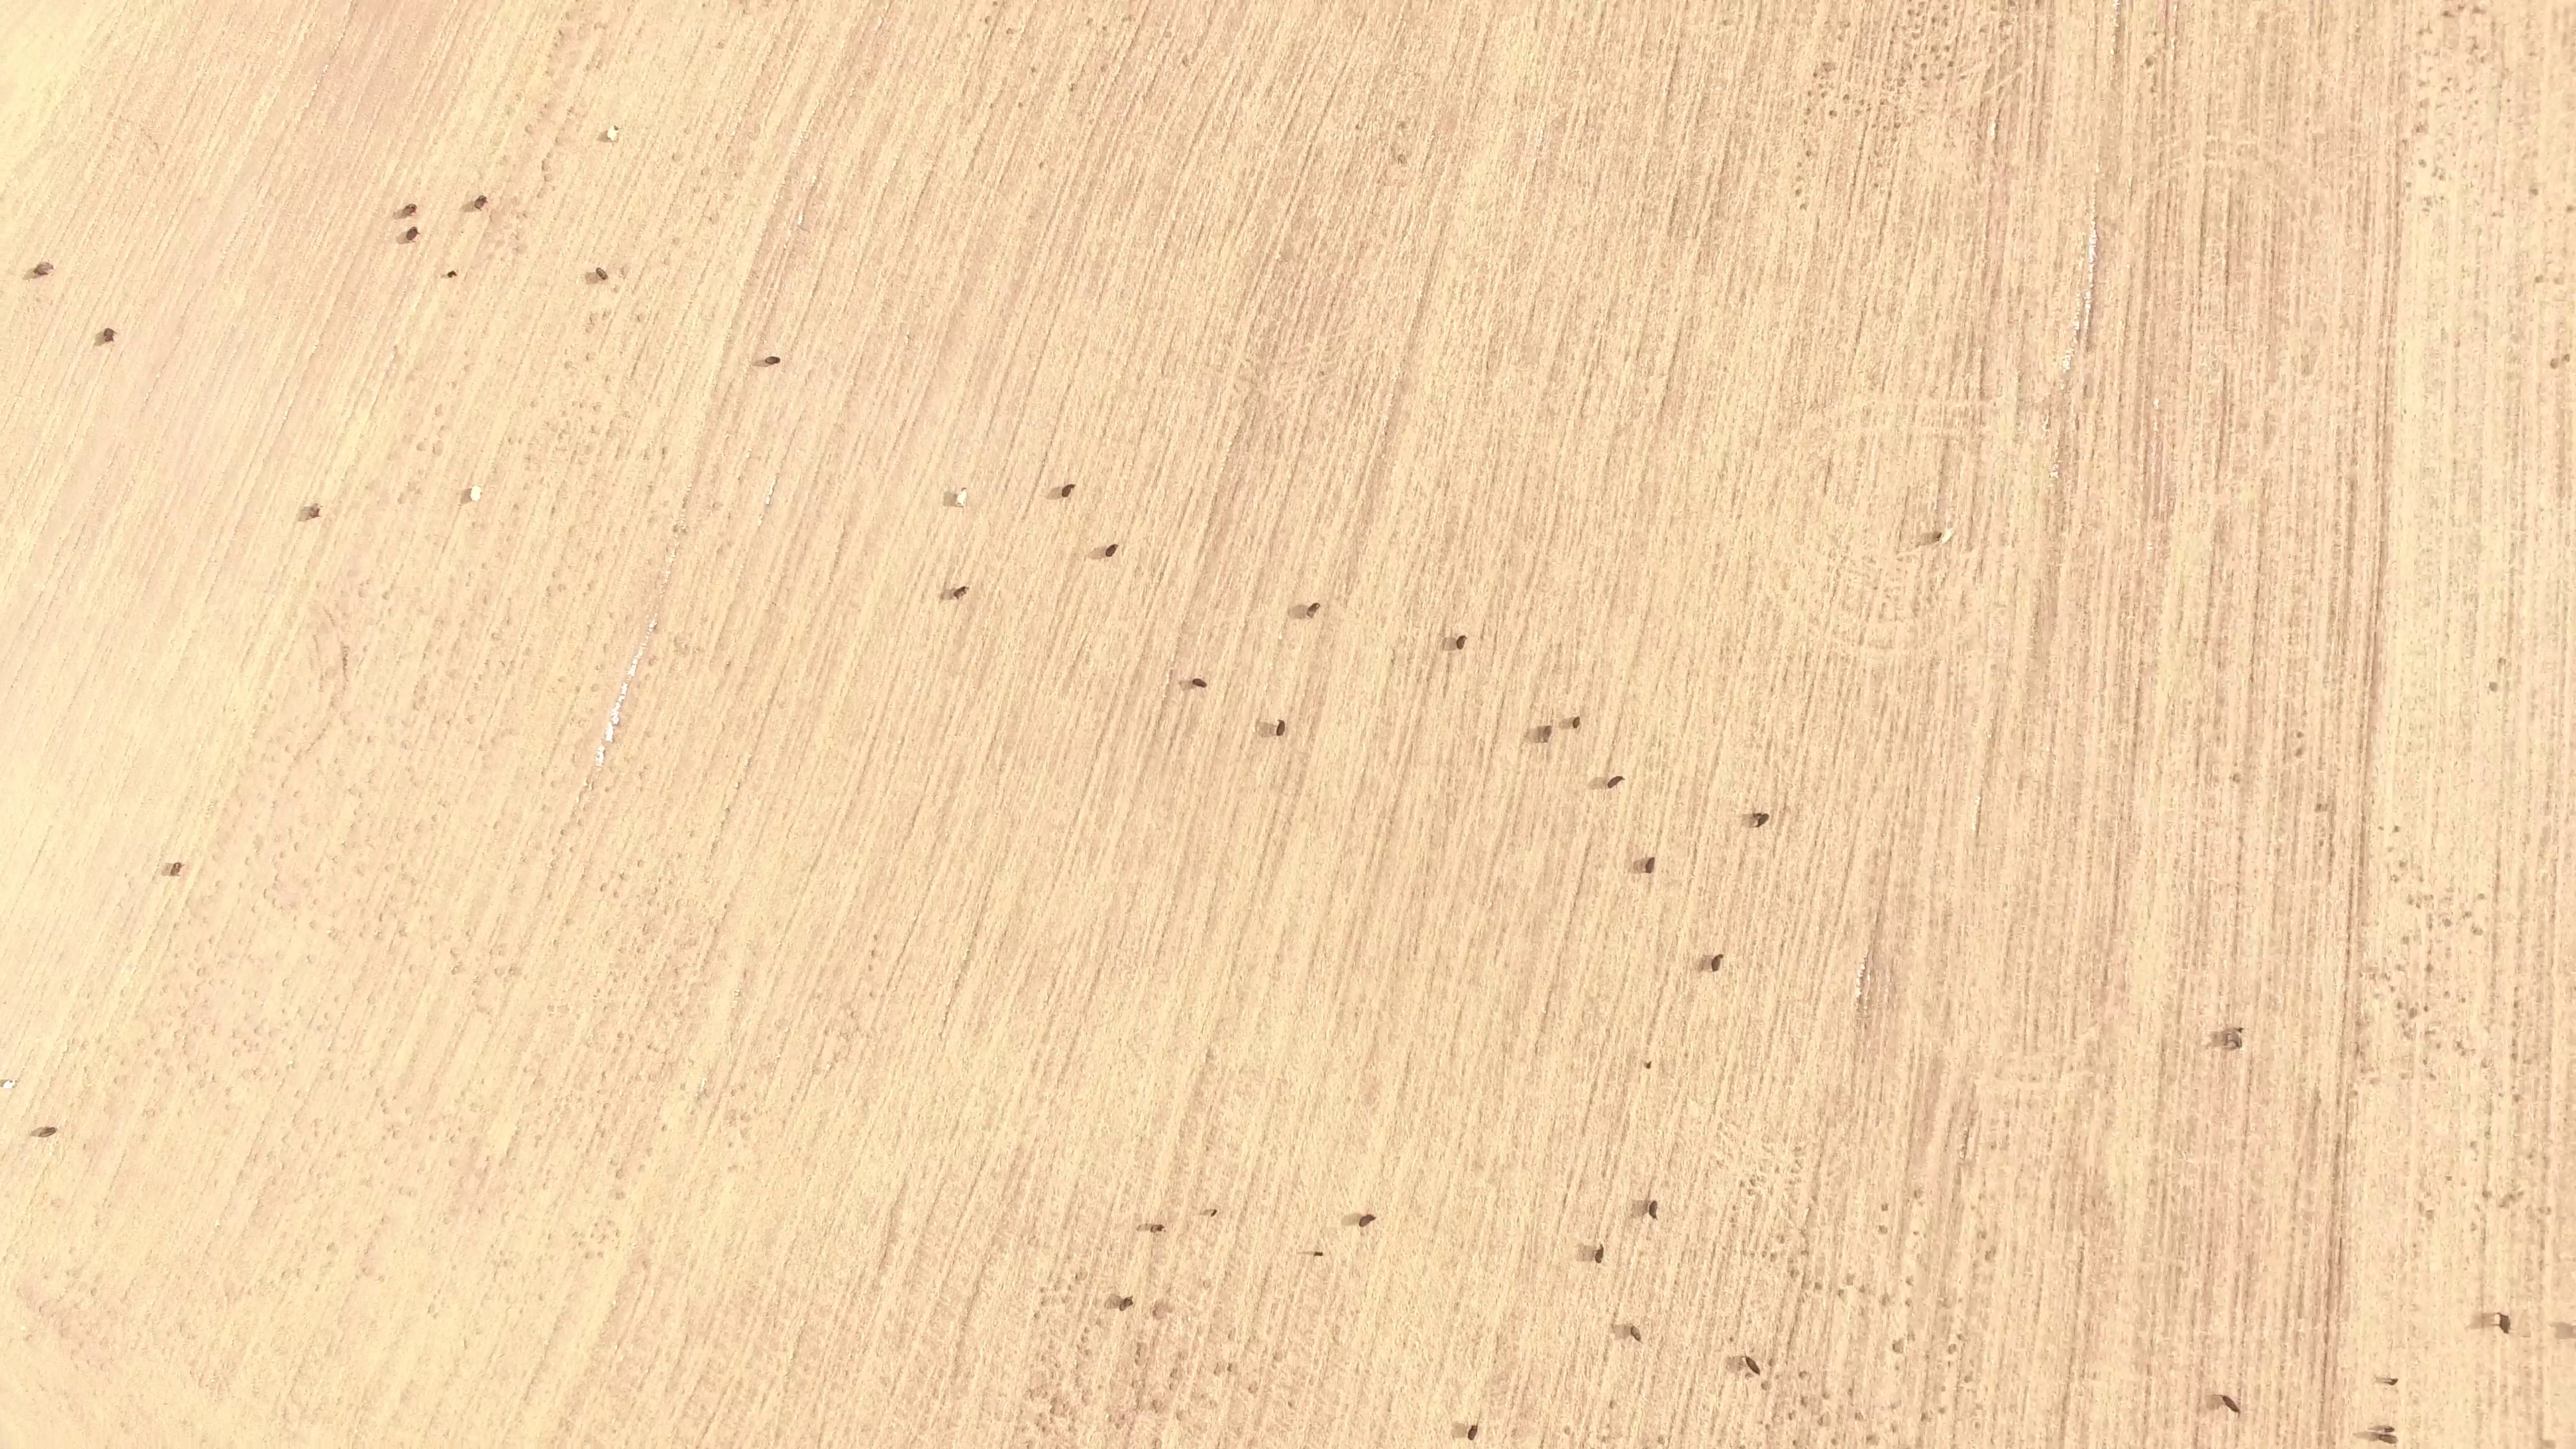sheep: (1933, 523, 1959, 549), (2218, 1391, 2243, 1415), (29, 259, 56, 279), (394, 201, 420, 222), (1099, 539, 1125, 561), (2228, 1024, 2247, 1053), (1644, 1195, 1661, 1224), (1741, 1353, 1764, 1377), (1269, 716, 1291, 739), (1354, 1210, 1379, 1231), (1706, 951, 1727, 975), (1748, 810, 1772, 831), (2495, 1311, 2514, 1337), (470, 193, 490, 216), (1626, 1322, 1646, 1346), (36, 1123, 60, 1143), (303, 500, 323, 525), (953, 486, 971, 513), (1057, 481, 1078, 502), (591, 264, 612, 284), (1114, 1293, 1137, 1313), (1639, 854, 1658, 878), (1603, 773, 1626, 792), (1302, 600, 1322, 623), (402, 223, 421, 246), (1537, 722, 1555, 747), (1187, 676, 1212, 693), (760, 353, 786, 370), (951, 584, 972, 603), (602, 123, 621, 145), (1463, 1420, 1481, 1444), (1145, 1221, 1169, 1236), (166, 859, 185, 880), (1, 1076, 21, 1093), (1452, 632, 1470, 653), (99, 325, 117, 347), (467, 484, 484, 505), (2375, 1432, 2400, 1446), (1590, 1244, 1607, 1265), (1567, 714, 1583, 733), (2385, 1375, 2401, 1389), (2379, 1424, 2400, 1434), (1641, 1059, 1654, 1072), (1310, 1248, 1326, 1259), (1208, 1206, 1220, 1219)
unknown: (2470, 1309, 2496, 1332), (2553, 1320, 2576, 1341), (2368, 643, 2381, 678), (2084, 299, 2098, 333), (2322, 1283, 2335, 1314), (1923, 528, 1945, 548), (2499, 1191, 2519, 1211), (941, 490, 961, 510), (2324, 1254, 2337, 1284), (2367, 676, 2379, 702), (2330, 1159, 2343, 1184), (1857, 967, 1870, 989), (2491, 873, 2503, 895), (595, 129, 612, 146), (2363, 737, 2373, 762), (2351, 1043, 2367, 1060), (1890, 1338, 1904, 1356), (1149, 1301, 1163, 1320), (2406, 1006, 2420, 1022), (2422, 961, 2436, 976), (2547, 356, 2562, 372), (1820, 59, 1834, 75), (2110, 46, 2125, 62), (2112, 21, 2129, 36), (2098, 972, 2111, 989), (2131, 720, 2142, 737), (2377, 500, 2388, 520), (2479, 1187, 2493, 1201), (2486, 679, 2500, 694), (444, 268, 459, 281), (2142, 55, 2156, 70), (2440, 7, 2455, 21), (1798, 1393, 1810, 1409), (1758, 1378, 1771, 1393), (1878, 1291, 1892, 1308), (2416, 1200, 2427, 1215), (2347, 477, 2358, 494), (2086, 244, 2102, 256), (2059, 1393, 2070, 1412), (2320, 1353, 2330, 1371), (2344, 914, 2355, 933), (2345, 528, 2355, 545), (2216, 427, 2227, 445), (1765, 1355, 1778, 1370), (1811, 1279, 1825, 1293), (2334, 1265, 2345, 1280), (1982, 1250, 1993, 1264), (1978, 1228, 1990, 1242), (2508, 1050, 2521, 1064), (2353, 1016, 2366, 1030), (2471, 926, 2485, 938), (2441, 916, 2454, 930), (2461, 908, 2475, 920), (2313, 800, 2324, 814), (2231, 771, 2243, 786), (2292, 745, 2306, 759), (2559, 351, 2573, 364), (2084, 335, 2096, 351), (2526, 185, 2541, 198), (2469, 3, 2483, 17), (2538, 1438, 2555, 1449), (2321, 1329, 2332, 1345), (2331, 1146, 2343, 1162), (2334, 1131, 2345, 1147), (2377, 542, 2387, 557), (2346, 501, 2357, 516), (2073, 327, 2084, 343), (1918, 1409, 1931, 1423), (1725, 1356, 1738, 1370), (1856, 1284, 1869, 1296), (2423, 1210, 2436, 1223), (2328, 1196, 2341, 1208), (1809, 1193, 1821, 1204), (2510, 1091, 2524, 1105), (2400, 934, 2412, 947), (2391, 823, 2402, 835), (2129, 739, 2140, 750), (2294, 729, 2306, 741), (2327, 606, 2339, 619), (2349, 454, 2359, 466), (2563, 203, 2576, 215), (1792, 186, 1804, 199), (2001, 17, 2012, 28), (1863, 1432, 1878, 1444), (1224, 1360, 1236, 1375), (2335, 1250, 2346, 1263), (2453, 1038, 2465, 1052), (2510, 998, 2522, 1012), (1864, 996, 1875, 1010), (1856, 994, 1866, 1008), (2346, 889, 2356, 903), (339, 655, 350, 669), (2363, 630, 2374, 643), (2151, 505, 2162, 520), (2413, 123, 2423, 136), (1826, 107, 1840, 119), (1655, 1436, 1666, 1447), (1762, 1421, 1772, 1433), (1851, 1411, 1862, 1421), (1046, 1404, 1059, 1417), (1148, 1397, 1159, 1411), (1607, 1397, 1617, 1408), (1050, 1395, 1061, 1406), (2373, 1375, 2385, 1386), (1962, 1373, 1975, 1384), (1796, 1368, 1807, 1381), (1835, 1286, 1847, 1297), (1843, 1274, 1854, 1286), (1787, 1267, 1797, 1279), (1989, 1244, 1999, 1256), (2537, 1241, 2547, 1252), (2326, 1232, 2337, 1246), (1876, 1223, 1886, 1235), (1200, 1207, 1211, 1218), (1878, 1203, 1891, 1214), (2047, 1200, 2058, 1212), (1953, 1176, 1964, 1188), (2443, 1173, 2455, 1184), (1959, 1143, 1970, 1154), (1988, 1142, 1998, 1152), (1961, 1134, 1971, 1146), (2427, 1071, 2439, 1083), (2520, 1057, 2534, 1067), (1203, 1049, 1214, 1061), (2509, 1036, 2520, 1049), (2421, 1003, 2431, 1015), (2394, 999, 2405, 1012), (2343, 947, 2353, 959), (2489, 944, 2500, 955), (2493, 861, 2504, 872), (2327, 848, 2337, 860), (2359, 813, 2369, 826), (2365, 703, 2375, 714), (2495, 655, 2506, 667), (2373, 604, 2384, 616), (2143, 494, 2153, 505), (2056, 445, 2066, 456), (2379, 425, 2390, 437), (2219, 391, 2229, 403), (1966, 354, 1976, 366), (2532, 274, 2543, 286), (2393, 256, 2404, 266), (1803, 148, 1814, 160), (1890, 120, 1902, 131), (1397, 119, 1408, 131), (1841, 91, 1852, 103), (1928, 43, 1939, 55), (2469, 42, 2481, 52), (2455, 3, 2467, 14), (2342, 968, 2352, 982), (2140, 464, 2150, 478), (2114, 11, 2124, 24), (2004, 1, 2018, 9), (1790, 1439, 1801, 1449), (1829, 1436, 1839, 1448), (2191, 1435, 2201, 1446), (2057, 1415, 2068, 1427), (1785, 1410, 1795, 1421), (1937, 1405, 1947, 1416), (1845, 1385, 1856, 1395), (1938, 1384, 1949, 1394), (2144, 1368, 2155, 1379), (1133, 1348, 1143, 1358), (1134, 1340, 1144, 1350), (1955, 1332, 1965, 1342), (1939, 1300, 1949, 1310), (1768, 1251, 1778, 1262), (2479, 1235, 2489, 1246), (1729, 1221, 1739, 1231), (2077, 1204, 2087, 1215), (2088, 1197, 2098, 1207), (1911, 1191, 1921, 1201), (2423, 1189, 2434, 1199), (2516, 1189, 2526, 1199), (1748, 1179, 1758, 1189), (2467, 1140, 2477, 1150), (2479, 1059, 2489, 1070), (2420, 1057, 2430, 1067), (2433, 1040, 2444, 1051), (2422, 1028, 2433, 1038), (2174, 1008, 2184, 1019), (2442, 988, 2452, 999), (2511, 984, 2521, 995), (1867, 967, 1878, 978), (2108, 917, 2119, 927), (2548, 912, 2558, 922), (2355, 885, 2365, 895), (2396, 859, 2406, 870), (2235, 853, 2245, 863), (2316, 838, 2326, 849), (2129, 759, 2139, 769), (1764, 739, 1774, 750), (1522, 731, 1532, 742), (605, 731, 615, 741), (613, 720, 624, 731), (1253, 716, 1263, 728), (2196, 714, 2206, 724), (2360, 673, 2370, 684), (2247, 673, 2257, 684), (650, 623, 660, 634), (1924, 594, 1934, 604), (2374, 587, 2385, 598), (2216, 535, 2228, 546), (678, 526, 689, 536), (2214, 455, 2224, 466), (2072, 419, 2082, 429), (1976, 388, 1988, 400), (2083, 289, 2093, 299), (1988, 287, 1998, 297), (2551, 276, 2562, 286), (2198, 234, 2208, 244), (1982, 229, 1992, 239), (2360, 222, 2370, 233), (2361, 213, 2371, 225), (1799, 201, 1809, 211), (2424, 199, 2434, 209), (1888, 135, 1899, 145), (1974, 131, 1985, 142), (1803, 106, 1814, 117), (1805, 89, 1815, 99), (1934, 72, 1945, 83), (1810, 70, 1820, 80), (1672, 59, 1682, 69), (1945, 58, 1956, 70), (1886, 38, 1896, 48), (1205, 17, 1215, 28), (1929, 15, 1939, 25), (2294, 1307, 2304, 1320), (2333, 1095, 2343, 1108), (2158, 1041, 2168, 1053), (1942, 440, 1952, 452), (2220, 405, 2230, 418), (1979, 270, 1989, 282), (2032, 1, 2044, 8), (1913, 1440, 1923, 1449), (1889, 1424, 1899, 1435), (1821, 1392, 1831, 1402), (2066, 1356, 2076, 1366), (1270, 1352, 1280, 1363), (1923, 1352, 1933, 1362), (1945, 1346, 1955, 1357), (1031, 1310, 1042, 1320), (2175, 1265, 2185, 1275), (2075, 1265, 2085, 1276), (1797, 1248, 1807, 1258), (2147, 1177, 2157, 1187), (2312, 1094, 2322, 1104), (2351, 1089, 2361, 1099), (2159, 1059, 2169, 1069), (2459, 1048, 2469, 1058), (2459, 995, 2469, 1005), (2178, 980, 2188, 991), (2426, 921, 2436, 931), (2110, 904, 2121, 914), (2000, 899, 2010, 909), (2355, 898, 2365, 908), (2236, 834, 2246, 845), (602, 785, 612, 795), (2355, 743, 2366, 753), (2133, 709, 2143, 719), (2133, 685, 2143, 696), (1176, 678, 1186, 688), (723, 661, 733, 671), (2137, 658, 2147, 668), (2032, 610, 2042, 620), (2344, 566, 2354, 578), (2344, 555, 2354, 566), (670, 525, 680, 535), (2140, 515, 2150, 525), (2056, 488, 2066, 498), (2043, 421, 2054, 431), (2220, 383, 2230, 394), (2015, 374, 2025, 384), (1978, 357, 1989, 367), (2077, 309, 2087, 319), (1604, 309, 1614, 319), (2088, 286, 2098, 296), (617, 265, 627, 275), (1992, 123, 2002, 134), (1015, 99, 1025, 110), (2038, 93, 2048, 103), (1028, 65, 1038, 75), (1905, 61, 1915, 71), (1754, 11, 1764, 21), (2161, 7, 2171, 18), (1799, 1279, 1809, 1289), (1903, 1277, 1913, 1287), (2536, 1206, 2546, 1216), (2526, 1151, 2536, 1161), (2211, 718, 2221, 728), (2133, 698, 2143, 708), (2216, 696, 2226, 706), (2206, 599, 2216, 609), (2375, 568, 2385, 578), (1937, 468, 1947, 478), (2351, 405, 2361, 415), (2080, 383, 2090, 393), (1854, 329, 1864, 339), (1739, 290, 1749, 300), (2015, 288, 2025, 298), (2142, 268, 2152, 278), (1818, 90, 1828, 100)
